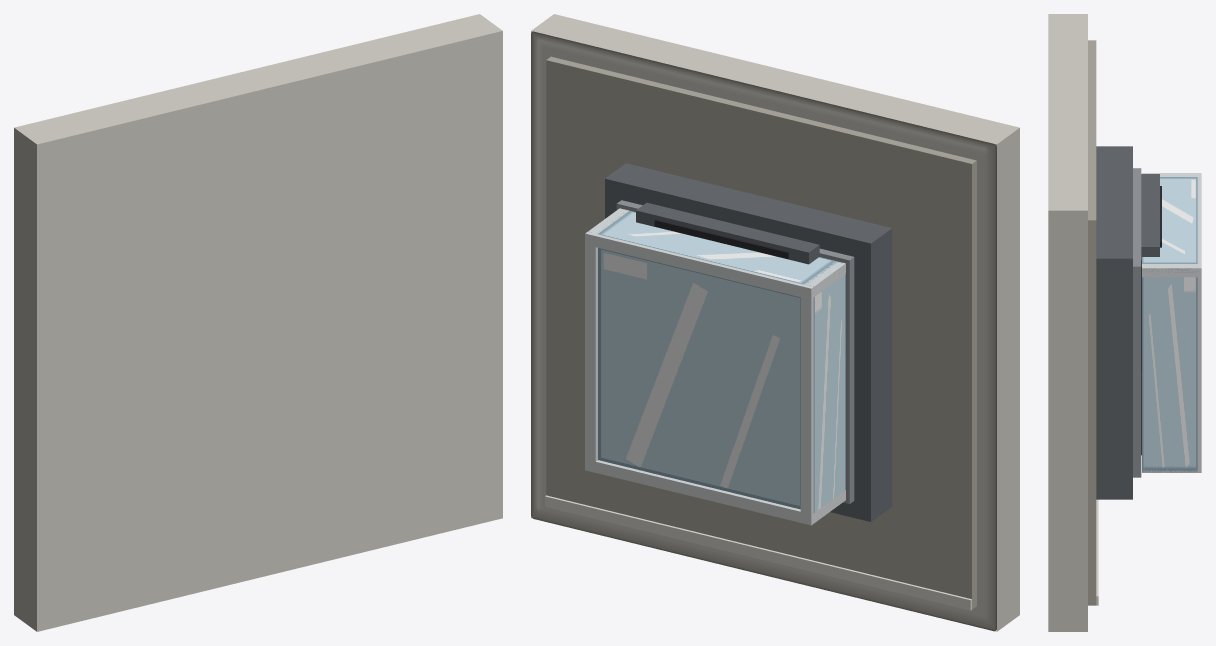
Rendered from cover_button_closed.obj.
3 renders of one model, left to right at view 1: azimuth 30°, elevation 25°; view 2: azimuth 150°, elevation 25°; view 3: azimuth 270°, elevation 25°, orthographic. The views are drawn at different scales.
Parts seen in each view (by area): view 1: Panel; view 2: Panel, Cover, Base; view 3: Panel, Base, Cover.
Boxes of the visible parts, <box> form: Panel: <box>14,14,502,631</box>; Panel: <box>531,14,1019,631</box>; Cover: <box>585,208,845,525</box>; Base: <box>605,163,892,521</box>; Panel: <box>1048,14,1098,631</box>; Base: <box>1096,146,1161,499</box>; Cover: <box>1142,173,1201,472</box>.
Bounding box in the file's own units: 0.875 × 0.875 × 0.2887.
Materials: 2 (2 with a texture image).
